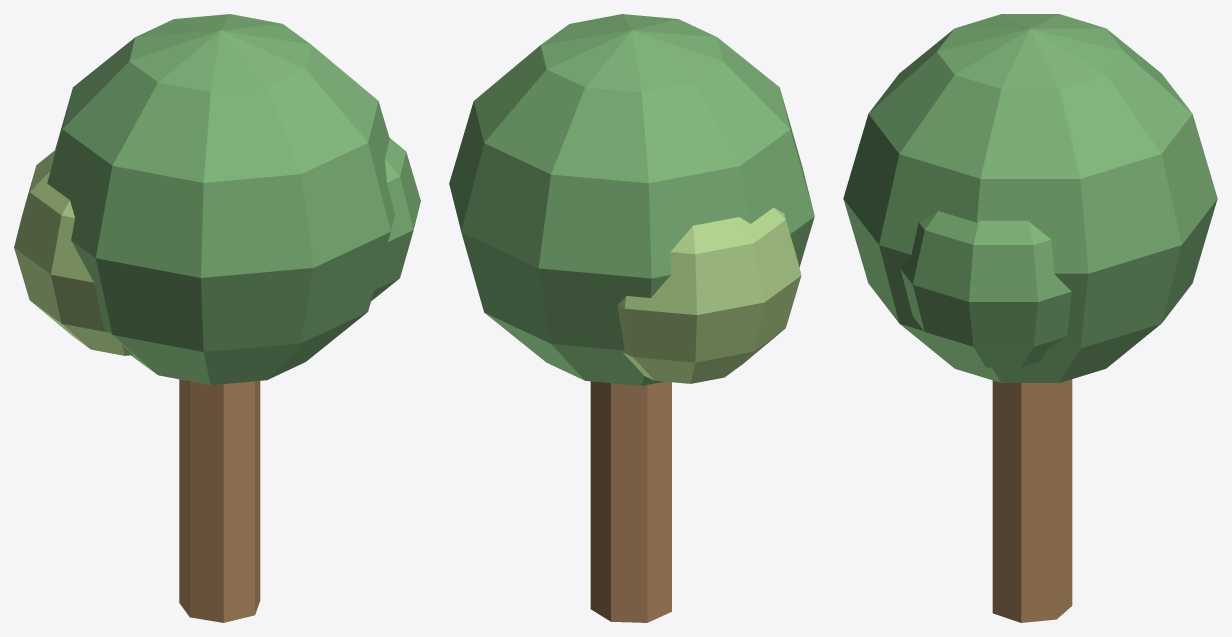
The model's file is tree-oak.glb.
The picture shows the model from 3 angles, left to right: view 1: azimuth 30°, elevation 25°; view 2: azimuth 150°, elevation 25°; view 3: azimuth 270°, elevation 25°; orthographic projection.
Visible parts, largest first — view 1: Oak_Crown_A, Oak_Trunk, Oak_Crown_B, Oak_Crown_C; view 2: Oak_Crown_A, Oak_Crown_B, Oak_Trunk; view 3: Oak_Crown_A, Oak_Crown_C, Oak_Trunk.
Boxes of the visible parts, x1,y1,x2,y2 form: Oak_Crown_A: (47,14,394,385); Oak_Trunk: (179,379,260,622); Oak_Crown_B: (14,150,132,355); Oak_Crown_C: (371,138,420,300); Oak_Crown_A: (449,14,814,385); Oak_Crown_B: (617,207,801,383); Oak_Trunk: (590,381,671,622); Oak_Crown_A: (843,14,1217,382); Oak_Crown_C: (900,211,1071,367); Oak_Trunk: (992,379,1072,622).
Size of the model in its own units: 2.62 by 4.25 by 2.5.
